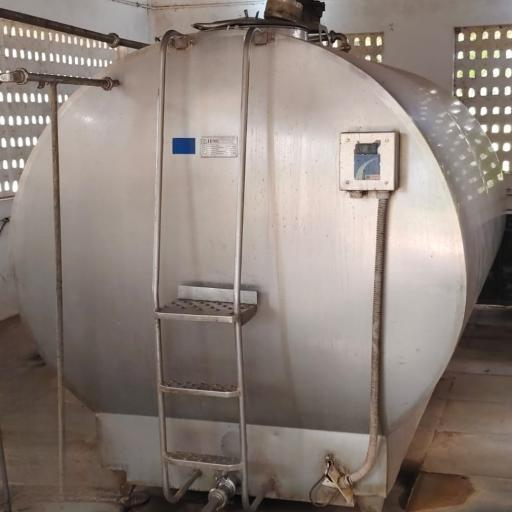silo: (10, 15, 507, 498)
